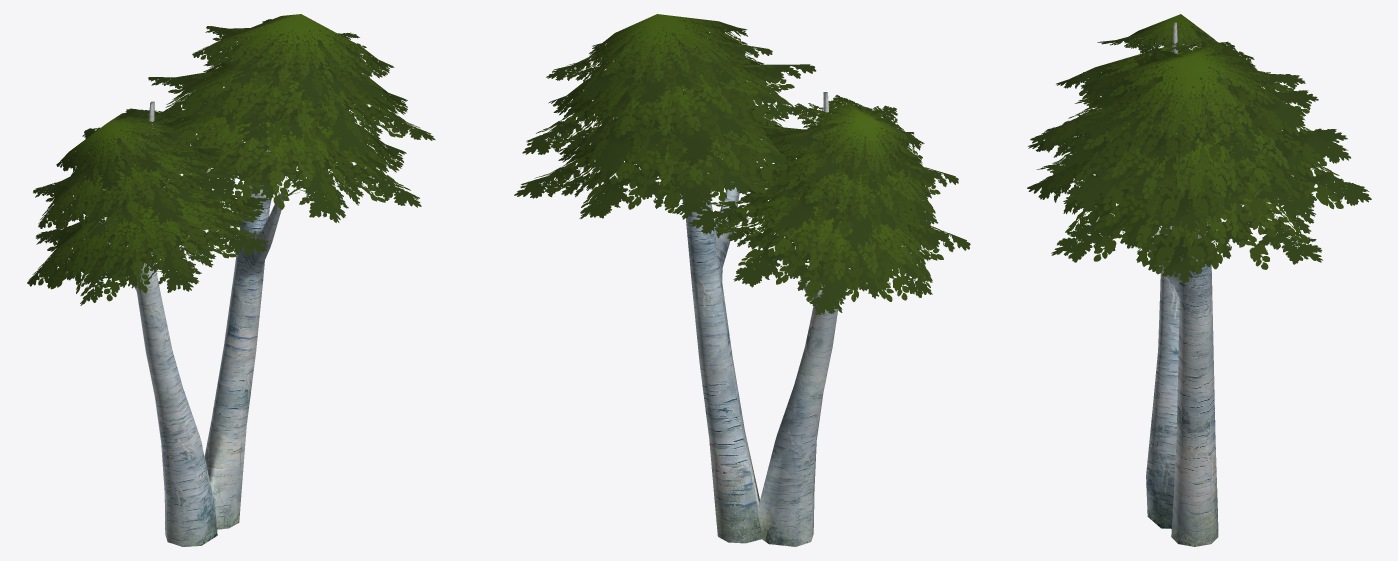
The model's file is Tree_2_Birch.fbx.
The picture shows the model from 3 angles, left to right: view 1: azimuth 30°, elevation 25°; view 2: azimuth 150°, elevation 25°; view 3: azimuth 270°, elevation 25°; orthographic projection. The views are drawn at different scales.
Visible parts, largest first — view 1: polySurface68; view 2: polySurface68; view 3: polySurface68.
Boxes of the visible parts, x1,y1,x2,y2 form: polySurface68: (27,14,435,546); polySurface68: (514,14,970,546); polySurface68: (1027,14,1371,546).
Size of the model in its own units: 384 by 457 by 288.
